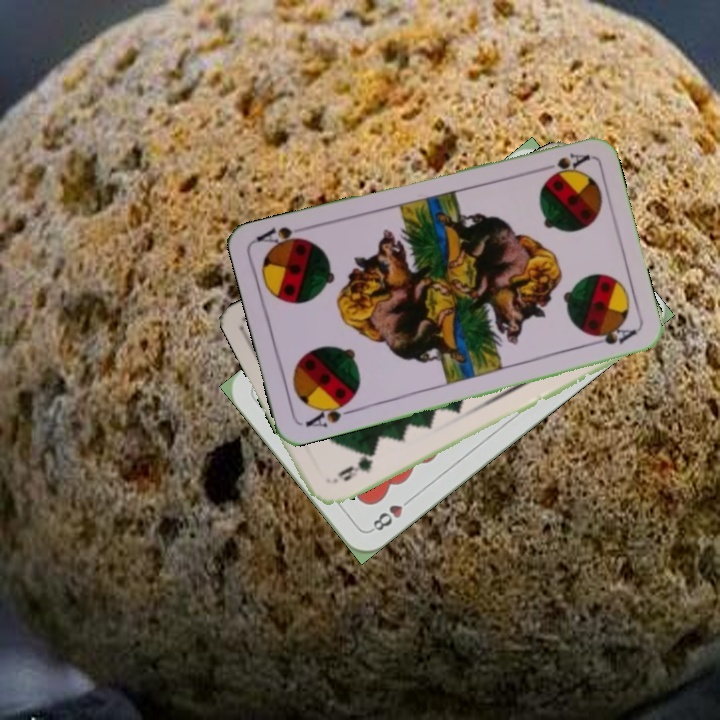G9: (329, 448, 378, 486)
H8: (366, 492, 416, 535)
SA: (301, 395, 358, 430), (533, 148, 592, 180)
